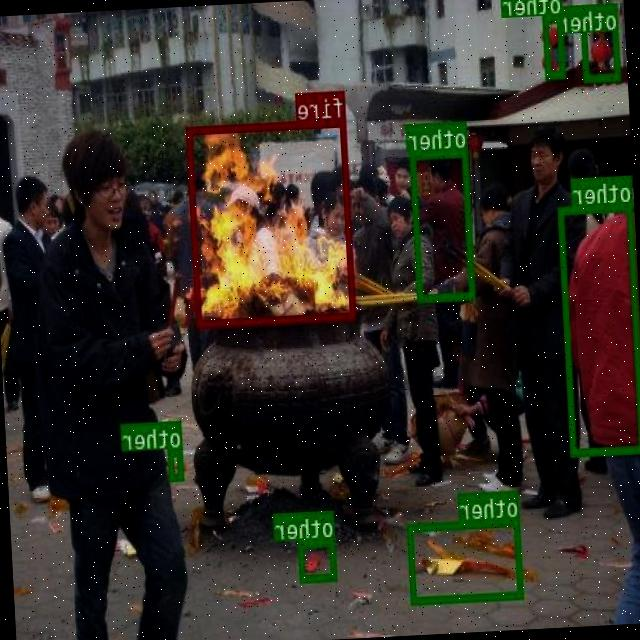fire: (188, 118, 358, 328)
